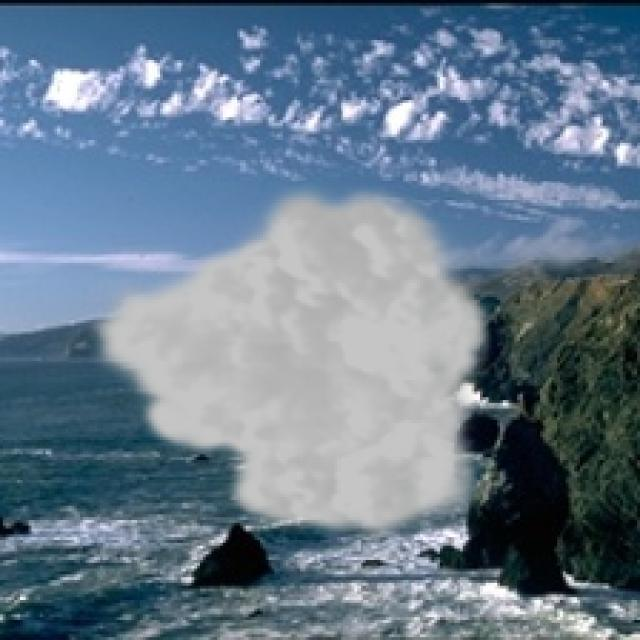Smoke: (82, 177, 494, 543)
